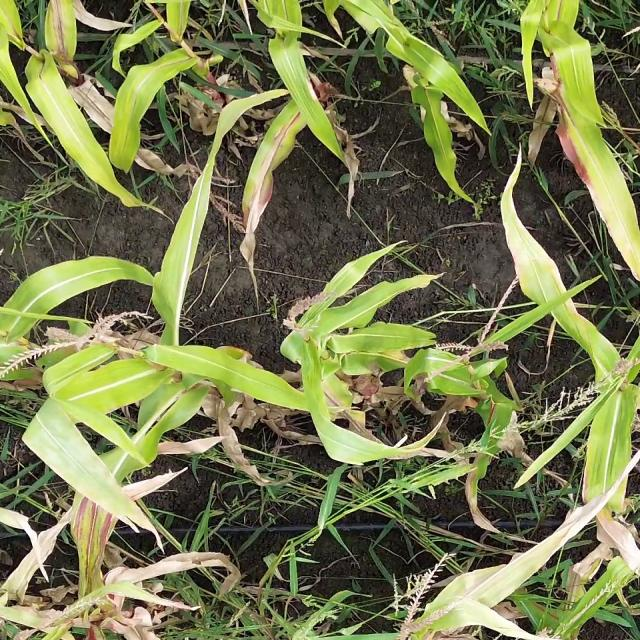northern-leaf-blight: (550, 88, 640, 258), (489, 205, 588, 359), (212, 116, 307, 267), (46, 480, 120, 582), (26, 0, 88, 74)
